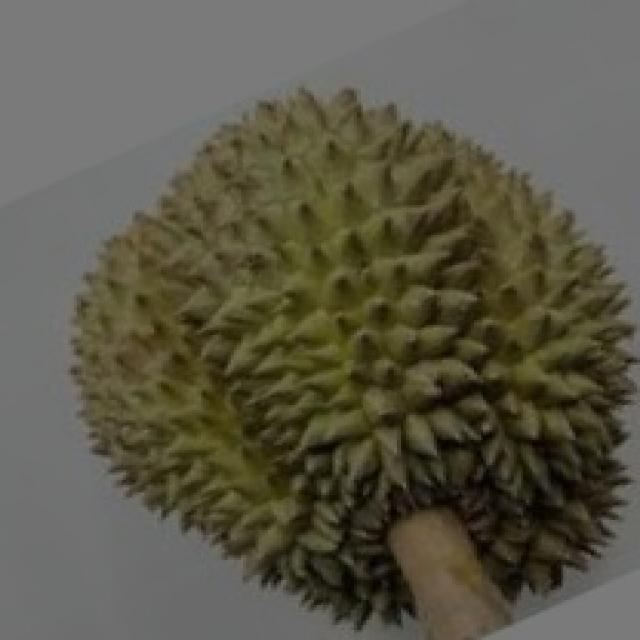fruit: (30, 272, 428, 640), (311, 247, 637, 635)
